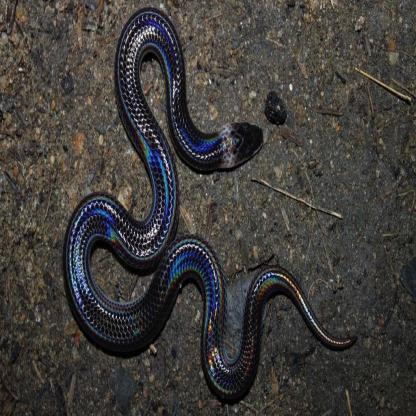Snake: (65, 3, 353, 416)
